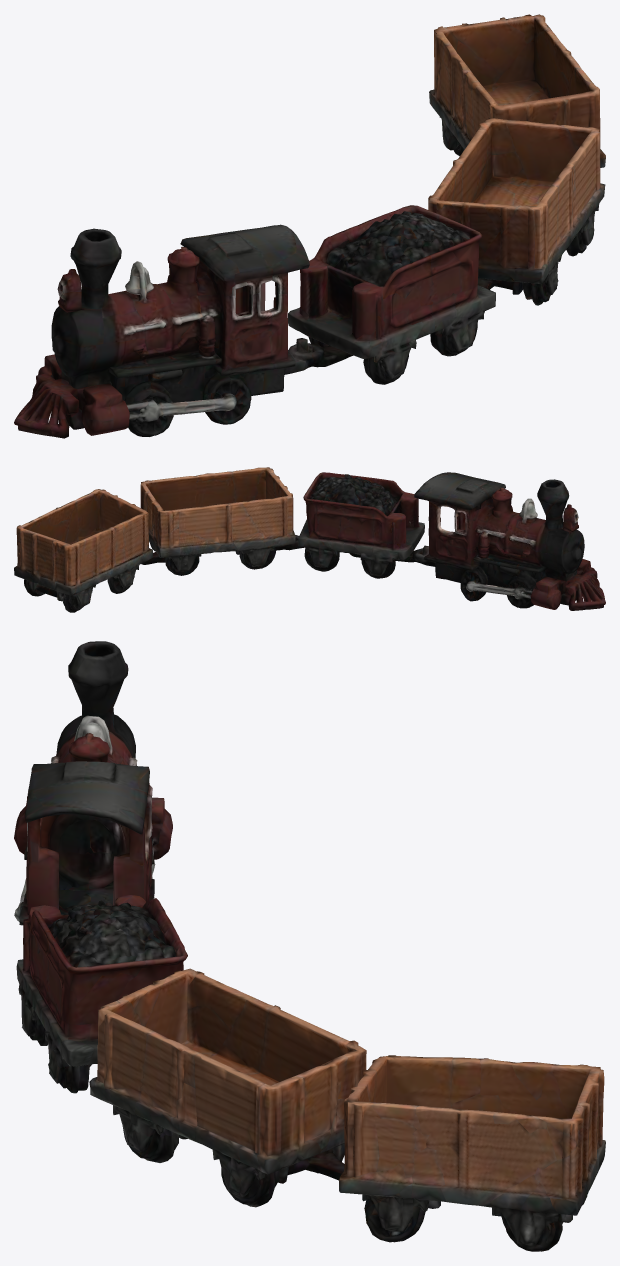
3 views of the same model, one above another, from view 1: azimuth 30°, elevation 25°; view 2: azimuth 150°, elevation 25°; view 3: azimuth 270°, elevation 25° (orthographic). The views are drawn at different scales.
Visible parts, largest first — view 1: mesh_node; view 2: mesh_node; view 3: mesh_node.
Boxes of the visible parts, x1,y1,x2,y2 form: mesh_node: (14,14,605,438); mesh_node: (14,467,605,612); mesh_node: (14,641,605,1251).
Size of the model in its own units: 1.9 by 0.4953 by 1.11.
1 material, 1 textured.
